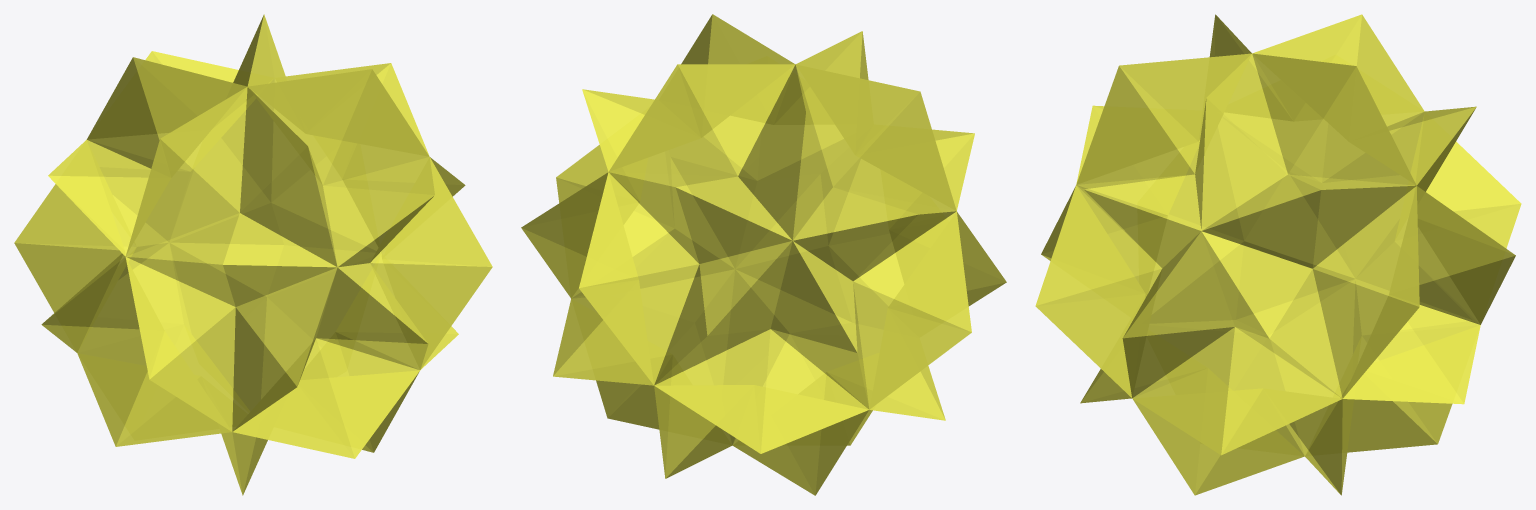
Rendered from Mobius120a.obj.
3 renders of one model, left to right at view 1: azimuth 30°, elevation 25°; view 2: azimuth 150°, elevation 25°; view 3: azimuth 270°, elevation 25°, orthographic. The views are drawn at different scales.
Size of the model in its own units: 3.78 by 3.52 by 3.63.
